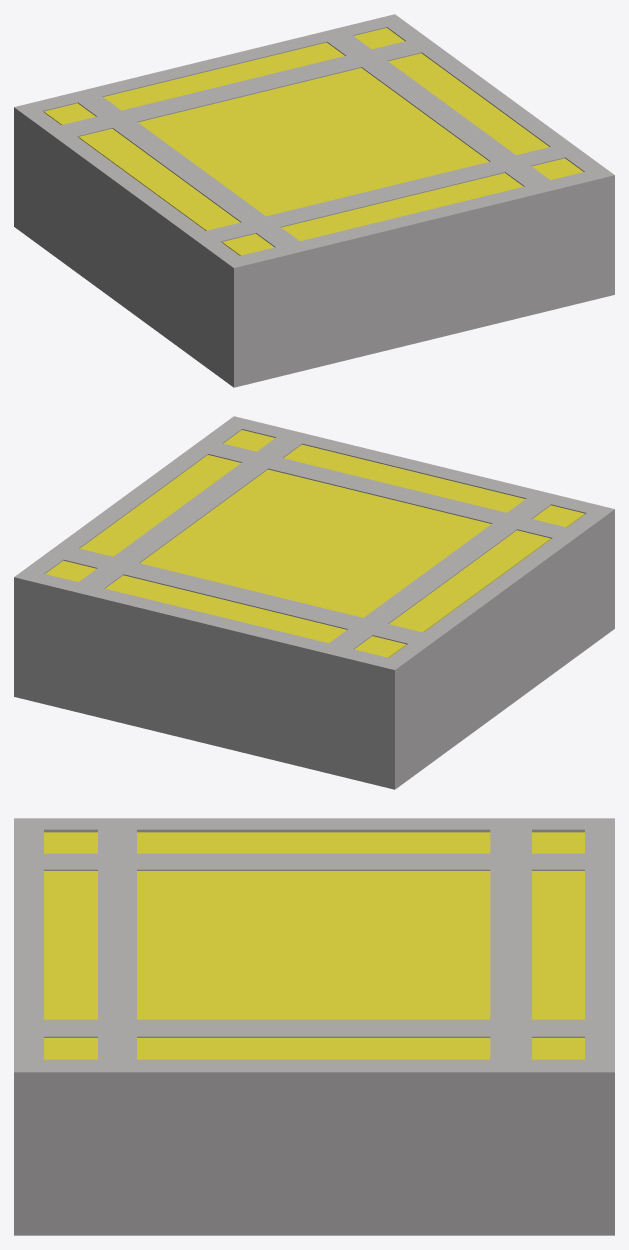
File: Base Tile 2 yellow.fbx
3 renders of one model, top to bottom at view 1: azimuth 30°, elevation 25°; view 2: azimuth 150°, elevation 25°; view 3: azimuth 270°, elevation 25°, orthographic. The views are drawn at different scales.
Visible parts, largest first — view 1: Base Tile, Color 1; view 2: Base Tile, Color 1; view 3: Base Tile, Color 1.
Boxes of the visible parts, bbox=[...] form: Base Tile: bbox=[14, 14, 614, 387]; Color 1: bbox=[44, 28, 583, 255]; Base Tile: bbox=[14, 416, 614, 789]; Color 1: bbox=[45, 430, 584, 657]; Base Tile: bbox=[14, 818, 614, 1235]; Color 1: bbox=[44, 832, 584, 1059].
Size of the model in its own units: 200 by 60 by 200.
